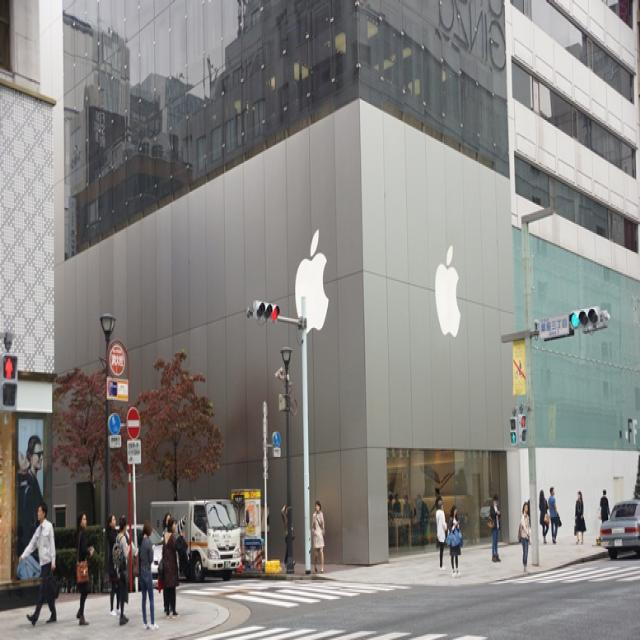body: (16, 499, 61, 628), (131, 514, 160, 630), (160, 516, 190, 620), (383, 486, 431, 548), (72, 507, 96, 625), (162, 510, 184, 618), (111, 515, 132, 627), (25, 432, 45, 539), (104, 511, 122, 620), (444, 502, 463, 577), (309, 498, 327, 574), (15, 447, 30, 538), (485, 491, 503, 564), (278, 499, 296, 568), (518, 501, 532, 574), (435, 498, 448, 571), (547, 485, 562, 543), (574, 488, 588, 546), (538, 488, 550, 544), (433, 484, 443, 550), (599, 488, 610, 524), (526, 496, 532, 526)
